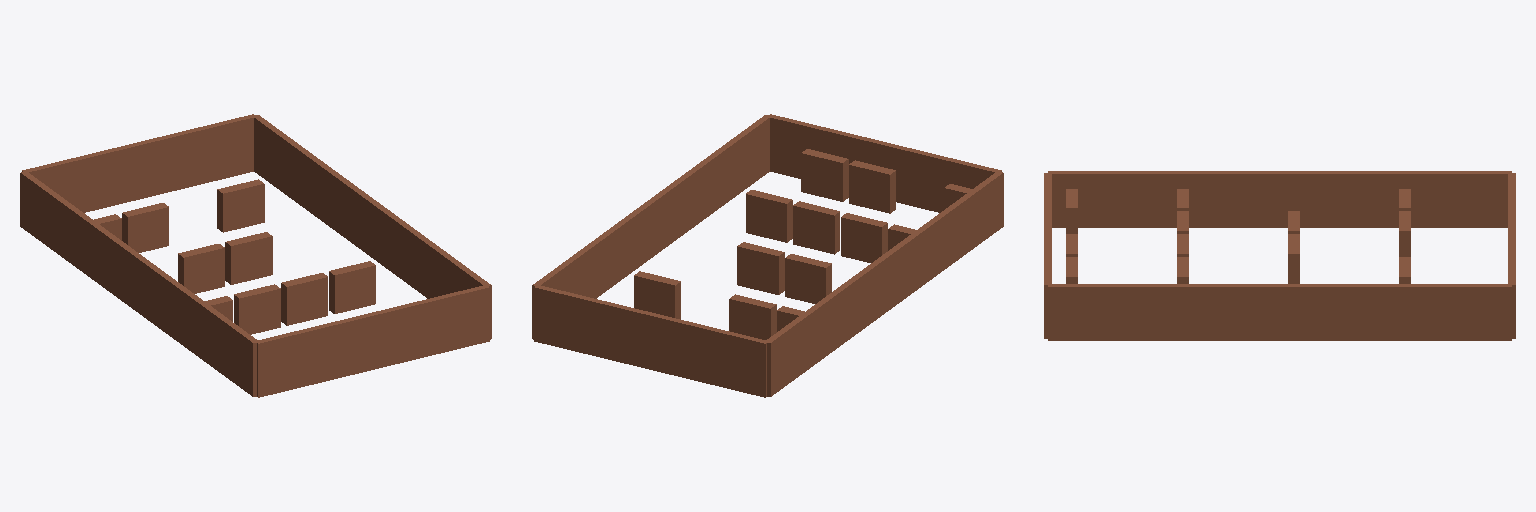
robot.urdf — supermarket:
<robot name='supermarket'>

<link name="supermarket_base"/>


<link name="shelf_0_0">
  <visual>
    <geometry>
      <box size="2.0 0.5 1.8"/>
    </geometry>
    <material name="shelf_0_0_mat">
      <color rgba="0.6 0.4 0.3 1"/>
    </material>
  </visual>
  <collision>
    <geometry>
      <box size="2.0 0.5 1.8"/>
    </geometry>
  </collision>
</link>


<link name="shelf_0_2">
  <visual>
    <geometry>
      <box size="2.0 0.5 1.8"/>
    </geometry>
    <material name="shelf_0_2_mat">
      <color rgba="0.6 0.4 0.3 1"/>
    </material>
  </visual>
  <collision>
    <geometry>
      <box size="2.0 0.5 1.8"/>
    </geometry>
  </collision>
</link>


<link name="shelf_0_3">
  <visual>
    <geometry>
      <box size="2.0 0.5 1.8"/>
    </geometry>
    <material name="shelf_0_3_mat">
      <color rgba="0.6 0.4 0.3 1"/>
    </material>
  </visual>
  <collision>
    <geometry>
      <box size="2.0 0.5 1.8"/>
    </geometry>
  </collision>
</link>


<link name="shelf_1_0">
  <visual>
    <geometry>
      <box size="2.0 0.5 1.8"/>
    </geometry>
    <material name="shelf_1_0_mat">
      <color rgba="0.6 0.4 0.3 1"/>
    </material>
  </visual>
  <collision>
    <geometry>
      <box size="2.0 0.5 1.8"/>
    </geometry>
  </collision>
</link>


<link name="shelf_1_1">
  <visual>
    <geometry>
      <box size="2.0 0.5 1.8"/>
    </geometry>
    <material name="shelf_1_1_mat">
      <color rgba="0.6 0.4 0.3 1"/>
    </material>
  </visual>
  <collision>
    <geometry>
      <box size="2.0 0.5 1.8"/>
    </geometry>
  </collision>
</link>


<link name="shelf_1_2">
  <visual>
    <geometry>
      <box size="2.0 0.5 1.8"/>
    </geometry>
    <material name="shelf_1_2_mat">
      <color rgba="0.6 0.4 0.3 1"/>
    </material>
  </visual>
  <collision>
    <geometry>
      <box size="2.0 0.5 1.8"/>
    </geometry>
  </collision>
</link>


<link name="shelf_1_3">
  <visual>
    <geometry>
      <box size="2.0 0.5 1.8"/>
    </geometry>
    <material name="shelf_1_3_mat">
      <color rgba="0.6 0.4 0.3 1"/>
    </material>
  </visual>
  <collision>
    <geometry>
      <box size="2.0 0.5 1.8"/>
    </geometry>
  </collision>
</link>


<link name="shelf_2_1">
  <visual>
    <geometry>
      <box size="2.0 0.5 1.8"/>
    </geometry>
    <material name="shelf_2_1_mat">
      <color rgba="0.6 0.4 0.3 1"/>
    </material>
  </visual>
  <collision>
    <geometry>
      <box size="2.0 0.5 1.8"/>
    </geometry>
  </collision>
</link>


<link name="shelf_2_2">
  <visual>
    <geometry>
      <box size="2.0 0.5 1.8"/>
    </geometry>
    <material name="shelf_2_2_mat">
      <color rgba="0.6 0.4 0.3 1"/>
    </material>
  </visual>
  <collision>
    <geometry>
      <box size="2.0 0.5 1.8"/>
    </geometry>
  </collision>
</link>


<link name="table_2_3">
    <contact>
      <lateral_friction value="1.0"/>
    </contact>
    <inertial>
      <origin rpy="0 0 0" xyz="0 0 0"/>
       <mass value=".0"/>
       <inertia ixx="1" ixy="0" ixz="0" iyy="1" iyz="0" izz="1"/>
    </inertial>
    <visual>
      <origin rpy="0 0 0" xyz="0 0 0.6"/>
      <geometry>
				<mesh filename="table.obj" scale="1.5 1 0.05"/>
      </geometry>
       <material name="white">
        <color rgba="1 1 1 1"/>
      </material>
    </visual>
    <collision>
      <origin rpy="0 0 0" xyz="0 0 0.6"/>
      <geometry>
	 	<box size="1.5 1 0.05"/>
      </geometry>
    </collision>
	<visual>
      <origin rpy="0 0 0" xyz="-0.65 -0.4 0.29"/>
      <geometry>
	    <mesh filename="table.obj" scale="0.1 0.1 0.58"/>
      </geometry>
	  <material name="framemat0"/>	 
    </visual>
    <visual>
      <origin rpy="0 0 0" xyz="-0.65 0.4 0.29"/>
      <geometry>
        <mesh filename="table.obj" scale="0.1 0.1 0.58"/>
      </geometry>
	  <material name="framemat0"/>
	  </visual>
    <visual>
      <origin rpy="0 0 0" xyz="0.65 -0.4 0.29"/>
      <geometry>
        <mesh filename="table.obj" scale="0.1 0.1 0.58"/>
      </geometry>
	  <material name="framemat0"/>
	  </visual>
    <visual>
      <origin rpy="0 0 0" xyz="0.65 0.4 0.29"/>
      <geometry>
        <mesh filename="table.obj" scale="0.1 0.1 0.58"/>
      </geometry>
    </visual>
  </link>
                          

<link name="shelf_3_0">
  <visual>
    <geometry>
      <box size="2.0 0.5 1.8"/>
    </geometry>
    <material name="shelf_3_0_mat">
      <color rgba="0.6 0.4 0.3 1"/>
    </material>
  </visual>
  <collision>
    <geometry>
      <box size="2.0 0.5 1.8"/>
    </geometry>
  </collision>
</link>


<link name="shelf_3_1">
  <visual>
    <geometry>
      <box size="2.0 0.5 1.8"/>
    </geometry>
    <material name="shelf_3_1_mat">
      <color rgba="0.6 0.4 0.3 1"/>
    </material>
  </visual>
  <collision>
    <geometry>
      <box size="2.0 0.5 1.8"/>
    </geometry>
  </collision>
</link>


<link name="shelf_3_3">
  <visual>
    <geometry>
      <box size="2.0 0.5 1.8"/>
    </geometry>
    <material name="shelf_3_3_mat">
      <color rgba="0.6 0.4 0.3 1"/>
    </material>
  </visual>
  <collision>
    <geometry>
      <box size="2.0 0.5 1.8"/>
    </geometry>
  </collision>
</link>


<link name="wall_front">
  <visual>
    <geometry>
      <box size="11.2 0.3 2.5"/>
    </geometry>
    <material name="wall_front_mat">
      <color rgba="0.6 0.4 0.3 1"/>
    </material>
  </visual>
  <collision>
    <geometry>
      <box size="11.2 0.3 2.5"/>
    </geometry>
  </collision>
</link>


<link name="wall_back">
  <visual>
    <geometry>
      <box size="11.2 0.3 2.5"/>
    </geometry>
    <material name="wall_back_mat">
      <color rgba="0.6 0.4 0.3 1"/>
    </material>
  </visual>
  <collision>
    <geometry>
      <box size="11.2 0.3 2.5"/>
    </geometry>
  </collision>
</link>


<link name="wall_right">
  <visual>
    <geometry>
      <box size="0.3 19.5 2.5"/>
    </geometry>
    <material name="wall_right_mat">
      <color rgba="0.6 0.4 0.3 1"/>
    </material>
  </visual>
  <collision>
    <geometry>
      <box size="0.3 19.5 2.5"/>
    </geometry>
  </collision>
</link>


<link name="wall_left">
  <visual>
    <geometry>
      <box size="0.3 19.5 2.5"/>
    </geometry>
    <material name="wall_left_mat">
      <color rgba="0.6 0.4 0.3 1"/>
    </material>
  </visual>
  <collision>
    <geometry>
      <box size="0.3 19.5 2.5"/>
    </geometry>
  </collision>
</link>

<joint name="joint_shelf_0_0" type="fixed">
  <parent link="supermarket_base"/>
  <child link="shelf_0_0"/>
  <origin xyz="-4.6 -8.75 0.9" rpy="0 0 0"/>
</joint>


<joint name="joint_shelf_0_2" type="fixed">
  <parent link="supermarket_base"/>
  <child link="shelf_0_2"/>
  <origin xyz="0.0 -8.75 0.9" rpy="0 0 0"/>
</joint>


<joint name="joint_shelf_0_3" type="fixed">
  <parent link="supermarket_base"/>
  <child link="shelf_0_3"/>
  <origin xyz="2.3 -8.75 0.9" rpy="0 0 0"/>
</joint>


<joint name="joint_shelf_1_0" type="fixed">
  <parent link="supermarket_base"/>
  <child link="shelf_1_0"/>
  <origin xyz="-4.6 -4.083333333333333 0.9" rpy="0 0 0"/>
</joint>


<joint name="joint_shelf_1_1" type="fixed">
  <parent link="supermarket_base"/>
  <child link="shelf_1_1"/>
  <origin xyz="-2.3 -4.083333333333333 0.9" rpy="0 0 0"/>
</joint>


<joint name="joint_shelf_1_2" type="fixed">
  <parent link="supermarket_base"/>
  <child link="shelf_1_2"/>
  <origin xyz="0.0 -4.083333333333333 0.9" rpy="0 0 0"/>
</joint>


<joint name="joint_shelf_1_3" type="fixed">
  <parent link="supermarket_base"/>
  <child link="shelf_1_3"/>
  <origin xyz="2.3 -4.083333333333333 0.9" rpy="0 0 0"/>
</joint>


<joint name="joint_shelf_2_1" type="fixed">
  <parent link="supermarket_base"/>
  <child link="shelf_2_1"/>
  <origin xyz="-2.3 0.5833333333333339 0.9" rpy="0 0 0"/>
</joint>


<joint name="joint_shelf_2_2" type="fixed">
  <parent link="supermarket_base"/>
  <child link="shelf_2_2"/>
  <origin xyz="0.0 0.5833333333333339 0.9" rpy="0 0 0"/>
</joint>


<joint name="joint_table_2_3" type="fixed">
  <parent link="supermarket_base"/>
  <child link="table_2_3"/>
  <origin xyz="2.3 0.5833333333333339 0.0"
          rpy="0 0 0"/>
</joint>


<joint name="joint_shelf_3_0" type="fixed">
  <parent link="supermarket_base"/>
  <child link="shelf_3_0"/>
  <origin xyz="-4.6 5.25 0.9" rpy="0 0 0"/>
</joint>


<joint name="joint_shelf_3_1" type="fixed">
  <parent link="supermarket_base"/>
  <child link="shelf_3_1"/>
  <origin xyz="-2.3 5.25 0.9" rpy="0 0 0"/>
</joint>


<joint name="joint_shelf_3_3" type="fixed">
  <parent link="supermarket_base"/>
  <child link="shelf_3_3"/>
  <origin xyz="2.3 5.25 0.9" rpy="0 0 0"/>
</joint>


<joint name="joint_wall_front" type="fixed">
  <parent link="supermarket_base"/>
  <child link="wall_front"/>
  <origin xyz="0 9.75 1.25" rpy="0 0 0"/>
</joint>


<joint name="joint_wall_back" type="fixed">
  <parent link="supermarket_base"/>
  <child link="wall_back"/>
  <origin xyz="0 -9.75 1.25" rpy="0 0 0"/>
</joint>


<joint name="joint_wall_right" type="fixed">
  <parent link="supermarket_base"/>
  <child link="wall_right"/>
  <origin xyz="5.6 0 1.25" rpy="0 0 0"/>
</joint>


<joint name="joint_wall_left" type="fixed">
  <parent link="supermarket_base"/>
  <child link="wall_left"/>
  <origin xyz="-5.6 0 1.25" rpy="0 0 0"/>
</joint>

</robot>

--- Render facts (derived) ---
3 views of the same robot in one strip: view 1: azimuth 30°, elevation 25°; view 2: azimuth 150°, elevation 25°; view 3: azimuth 270°, elevation 25° (orthographic).
Robot: supermarket — 18 links, 17 joints (17 fixed); root link supermarket_base; default pose: every joint at zero.
Links seen in each view (by area): view 1: wall_left, wall_back, wall_right, wall_front, shelf_2_2, shelf_3_3, shelf_1_2, shelf_1_3, shelf_1_1, shelf_2_1, shelf_3_1; view 2: wall_left, wall_front, wall_right, wall_back, shelf_0_3, shelf_2_2, shelf_0_2, shelf_1_3, shelf_1_2, shelf_2_1, shelf_1_1, shelf_3_3 (+1 smaller); view 3: wall_right, wall_left, wall_back, wall_front, shelf_2_2, shelf_3_1, shelf_0_0.
Boxes of the visible links, x1,y1,x2,y2 form: wall_left: (20, 172, 257, 396); wall_back: (255, 285, 489, 397); wall_right: (254, 115, 491, 339); wall_front: (22, 114, 255, 212); shelf_2_2: (225, 232, 272, 284); shelf_3_3: (217, 179, 264, 232); shelf_1_2: (281, 273, 327, 325); shelf_1_3: (329, 261, 375, 313); shelf_1_1: (234, 284, 280, 334); shelf_2_1: (178, 244, 224, 293); shelf_3_1: (122, 203, 168, 252); wall_left: (765, 171, 1003, 396); wall_front: (534, 285, 767, 397); wall_right: (532, 115, 770, 339); wall_back: (768, 114, 1001, 212); shelf_0_3: (801, 149, 848, 201); shelf_2_2: (737, 242, 784, 294); shelf_0_2: (849, 160, 895, 213); shelf_1_3: (746, 190, 792, 242); shelf_1_2: (793, 201, 839, 254); shelf_2_1: (785, 254, 831, 303); shelf_1_1: (841, 213, 887, 262); shelf_3_3: (634, 271, 680, 319); wall_right: (1048, 284, 1511, 340); wall_left: (1048, 171, 1511, 227); wall_back: (1044, 173, 1051, 338); wall_front: (1508, 173, 1515, 338); shelf_2_2: (1288, 234, 1299, 283); shelf_3_1: (1399, 211, 1410, 256); shelf_0_0: (1066, 189, 1077, 233).
Size in the robot's own frame: 11.5 by 19.8 by 2.5 metres.
0 mesh visuals loaded from 1 distinct referenced files (none loaded); not drawn: 5 (reference not matched to a file when rendering).
